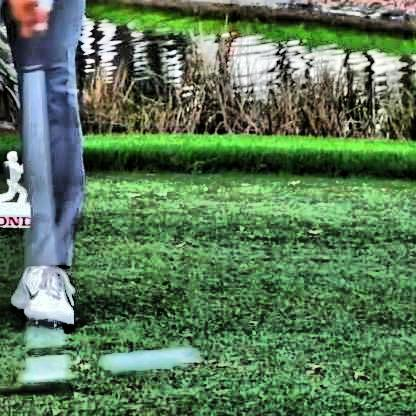golfball: (99, 341, 199, 371)
